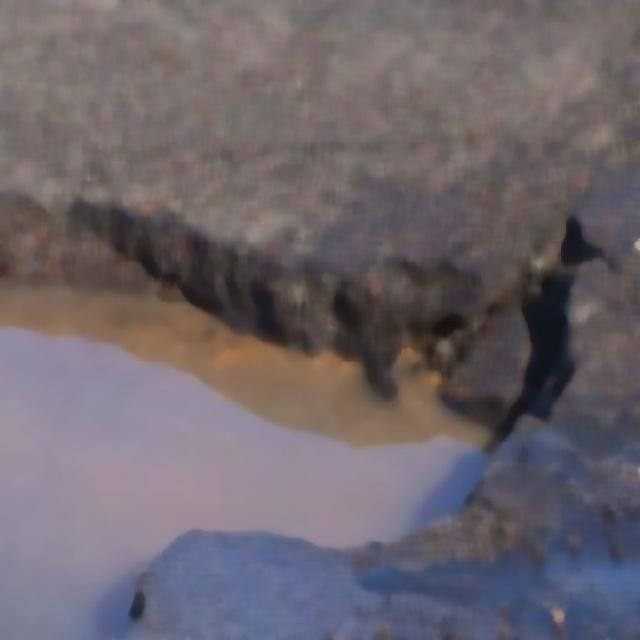Pothole: (0, 220, 462, 634)
